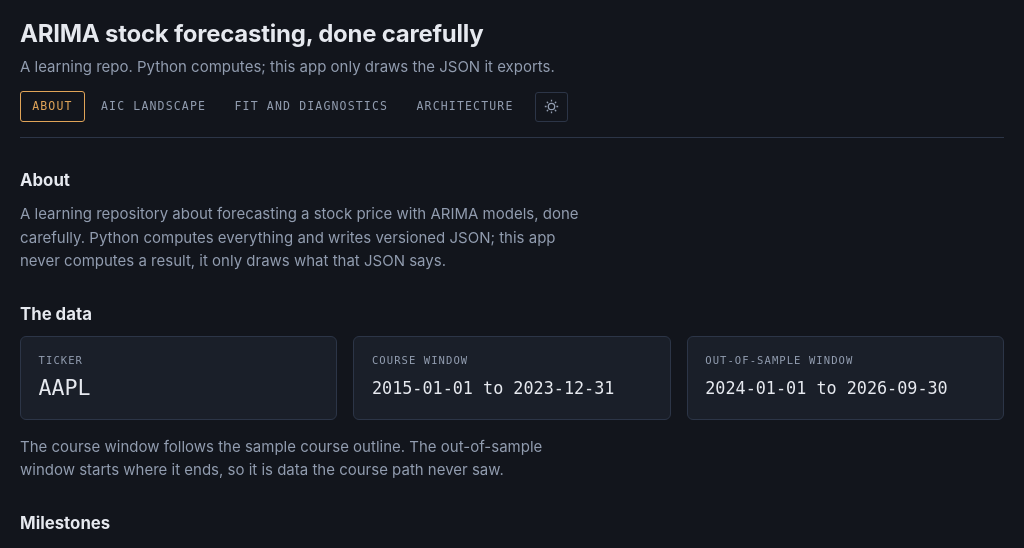
App (integration) › offers the fit page after the AIC landscape once meta lists its four files, and loads fit.json and the primary model’s residuals only when it opens
Expected: the text "AAPL" is shown, [39,375,91,400]
What coordinates should you click on to do the following:
click the link "Fit and diagnostics"
I would click on:
 (311, 106)
Its box is [234,99,388,113].
(page scrolled)
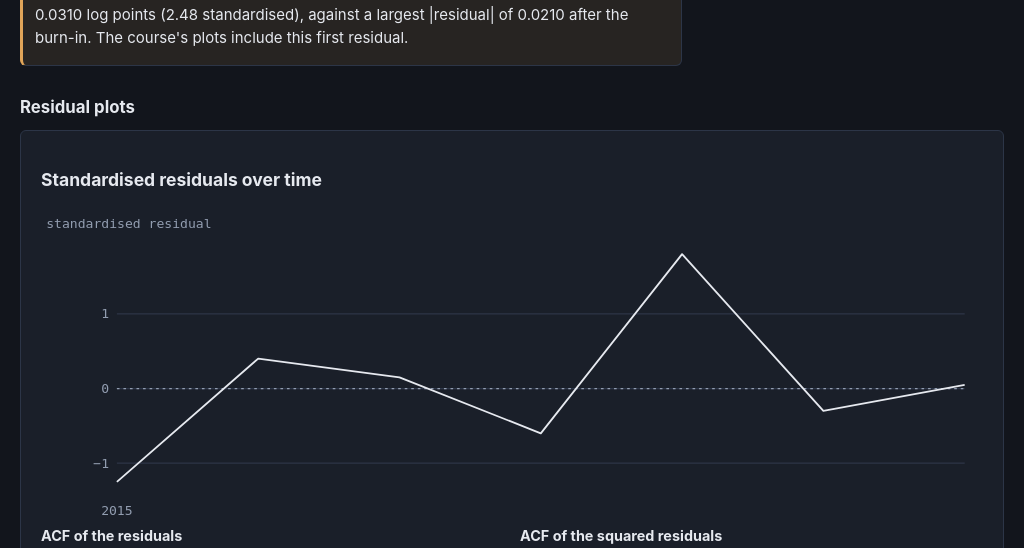
Expected: the picture named "Standardised residuals of ARIMA(3, 1, 2)" is shown, [41,211,983,525]
